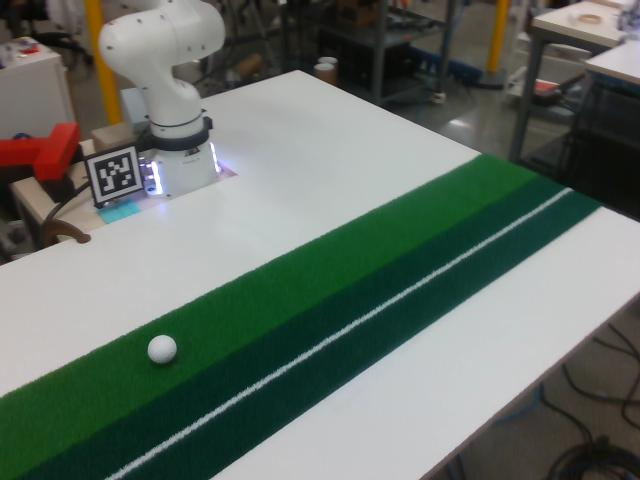golf_balls: (148, 335, 177, 364)
